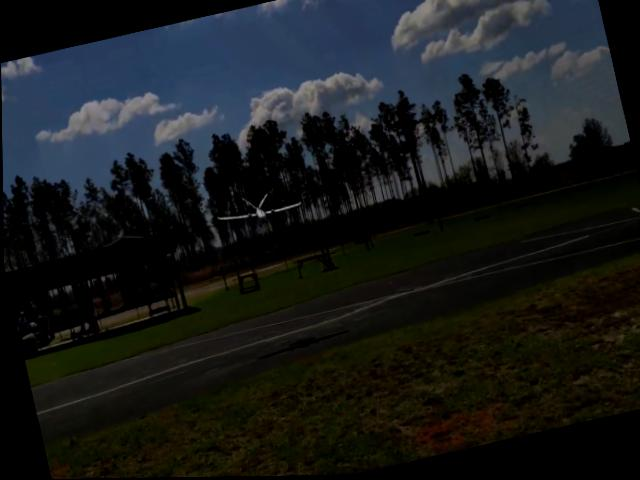plane: (214, 188, 306, 237)
